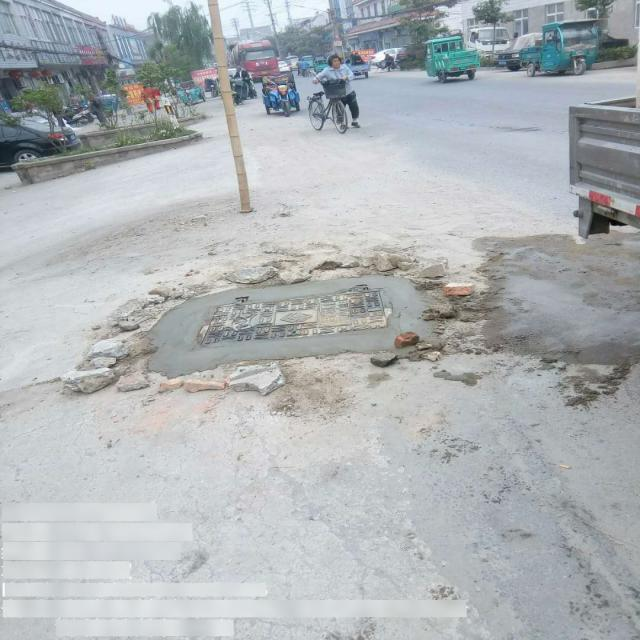Good: (190, 284, 394, 346)
